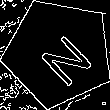N_NW: (26, 21, 91, 85)
